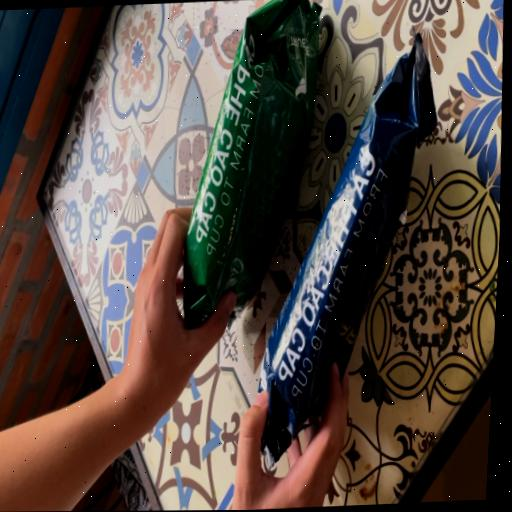cafe_hat: (258, 32, 436, 465)
cafe_xay: (183, 0, 320, 326)
